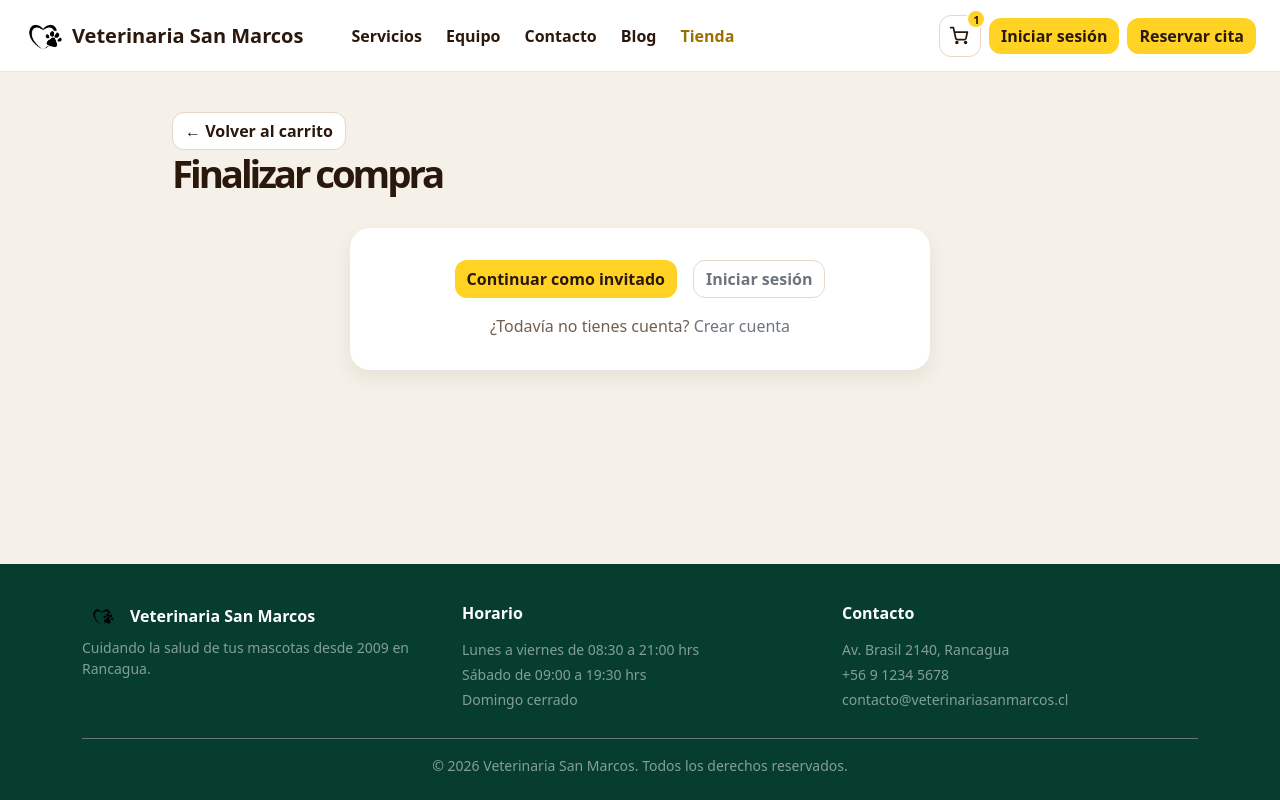
it: el ingreso opcional vuelve al pago y conserva el despacho
The image size is (1280, 800).
Click the button "Continuar como invitado".
click(566, 279)  # box [454,260,677,298]
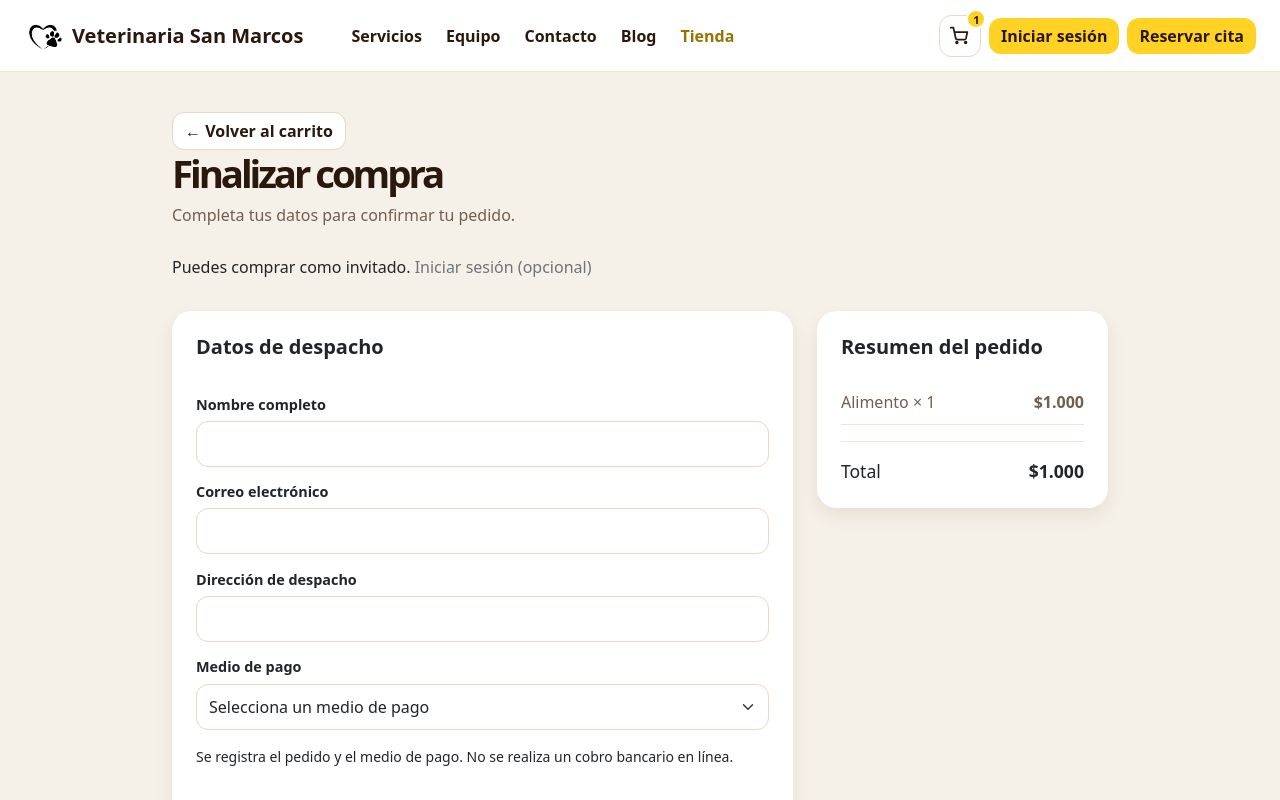
Type "Dirección conservada" into the field labelled "Dirección de despacho".
click(482, 619); type("Dirección conservada")  # box [196,596,769,642]
Select "Transferencia bancaria" in the dropdown labelled "Medio de pago" at coordinates (482, 707), box [196,684,769,730]
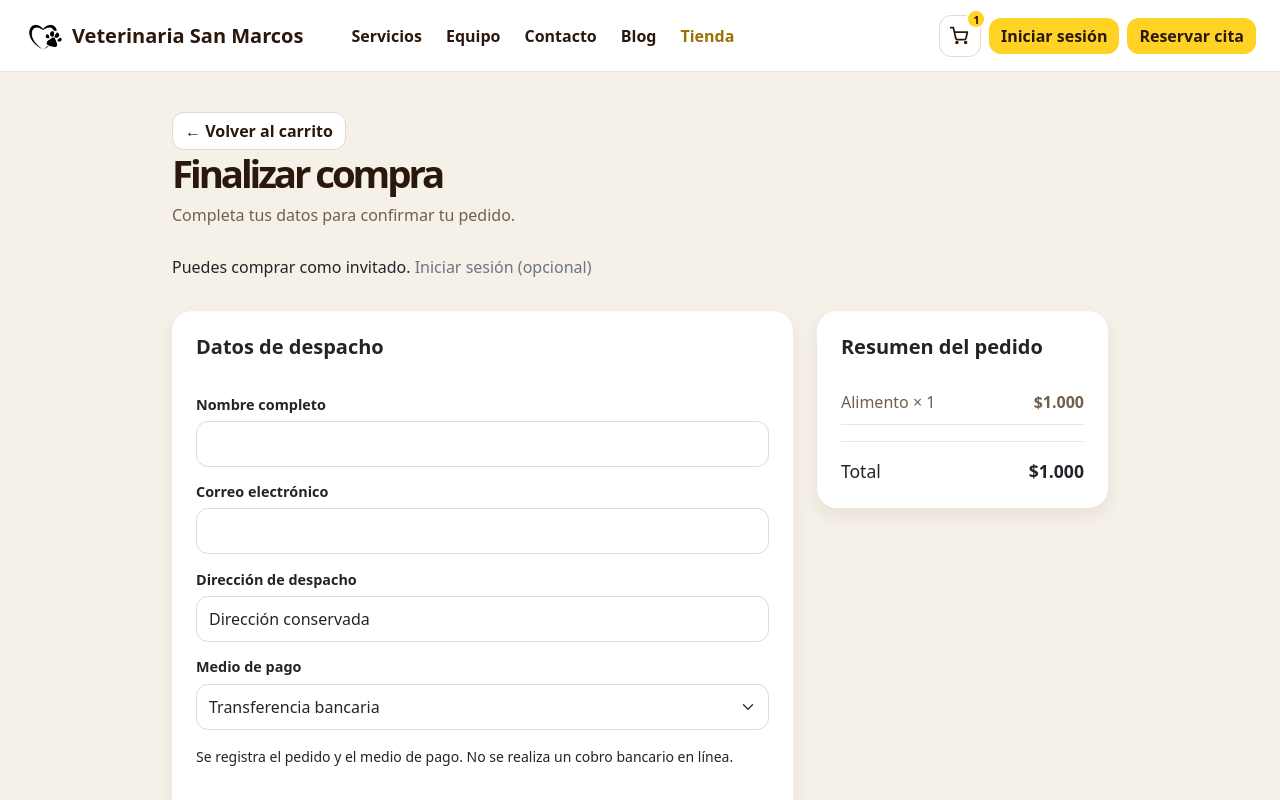
Click the link "Iniciar sesión (opcional)".
click(503, 267)  # box [415,256,591,278]
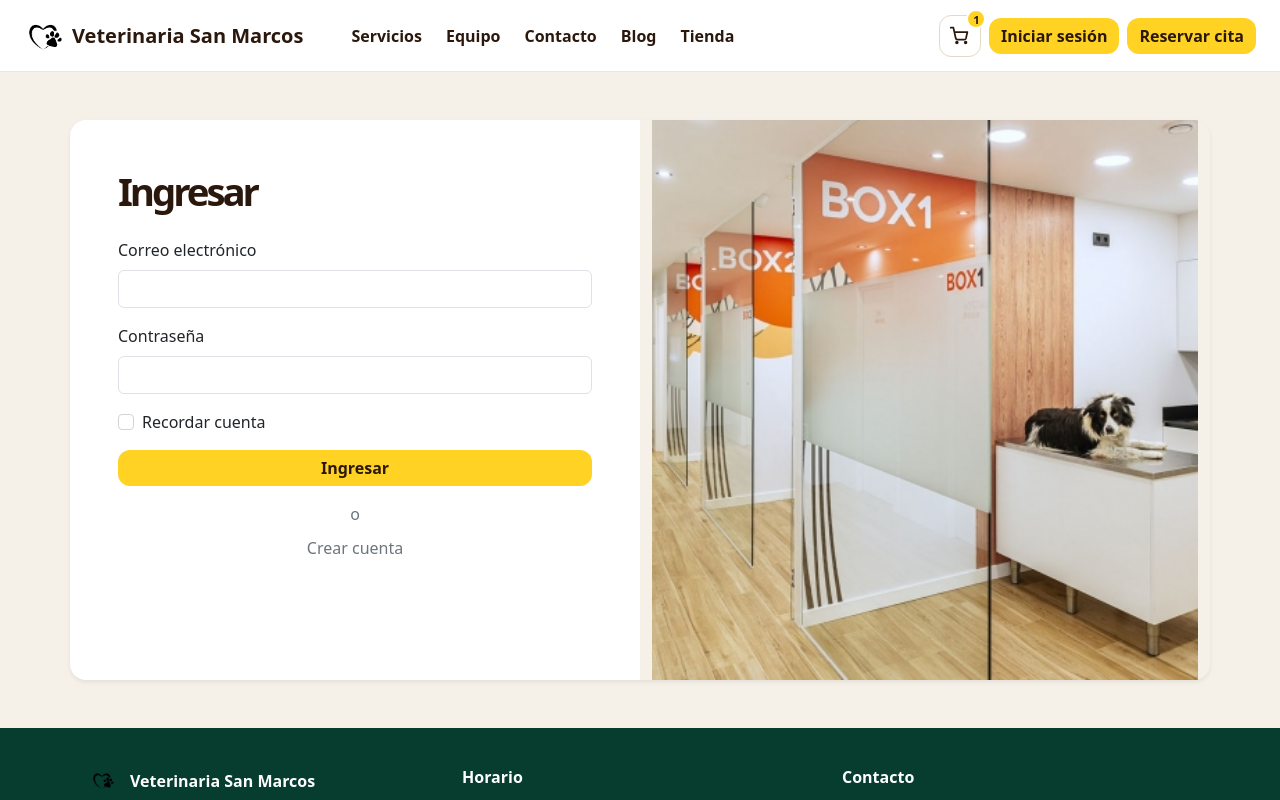
Type "sofia@gmail.com" into the field labelled "Correo electrónico".
click(355, 289); type("sofia@gmail.com")  # box [118,270,592,308]
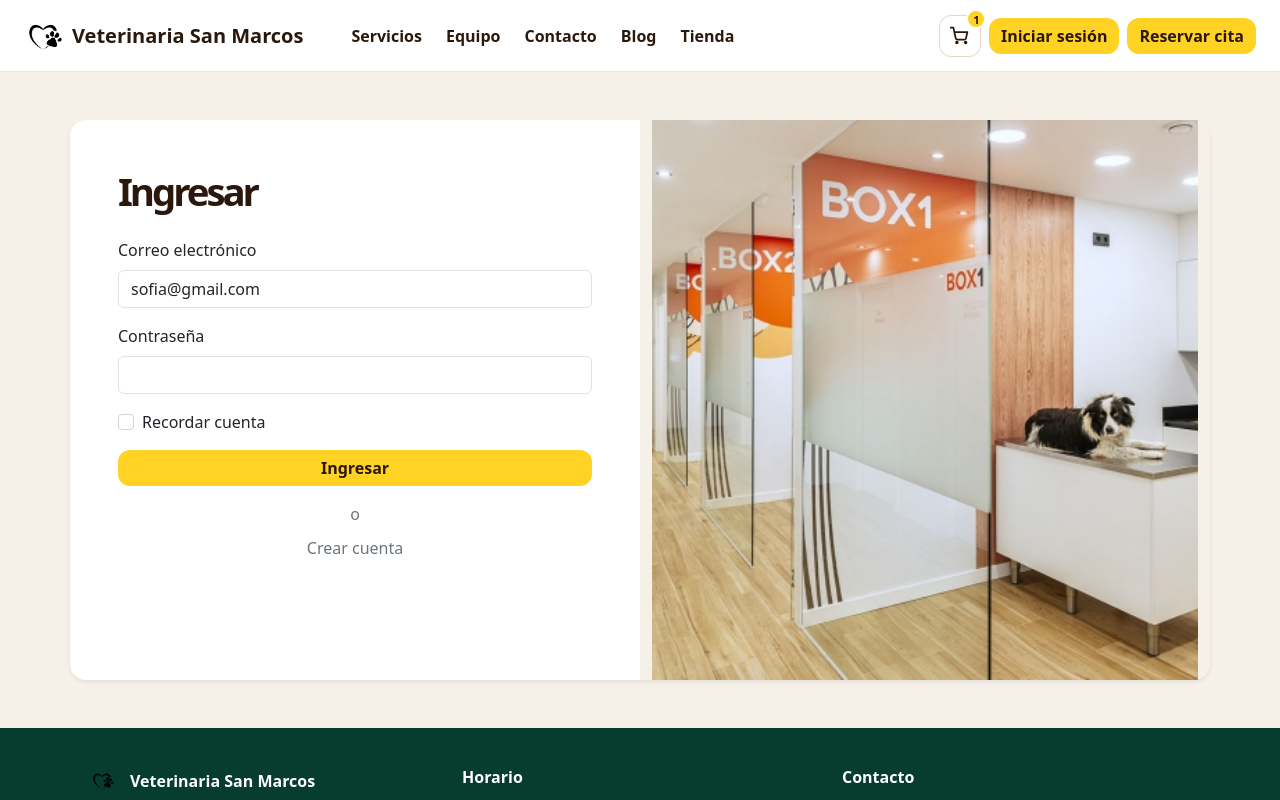
Type "1234" into the password field labelled "Contraseña".
click(355, 375); type("1234")  # box [118,356,592,394]
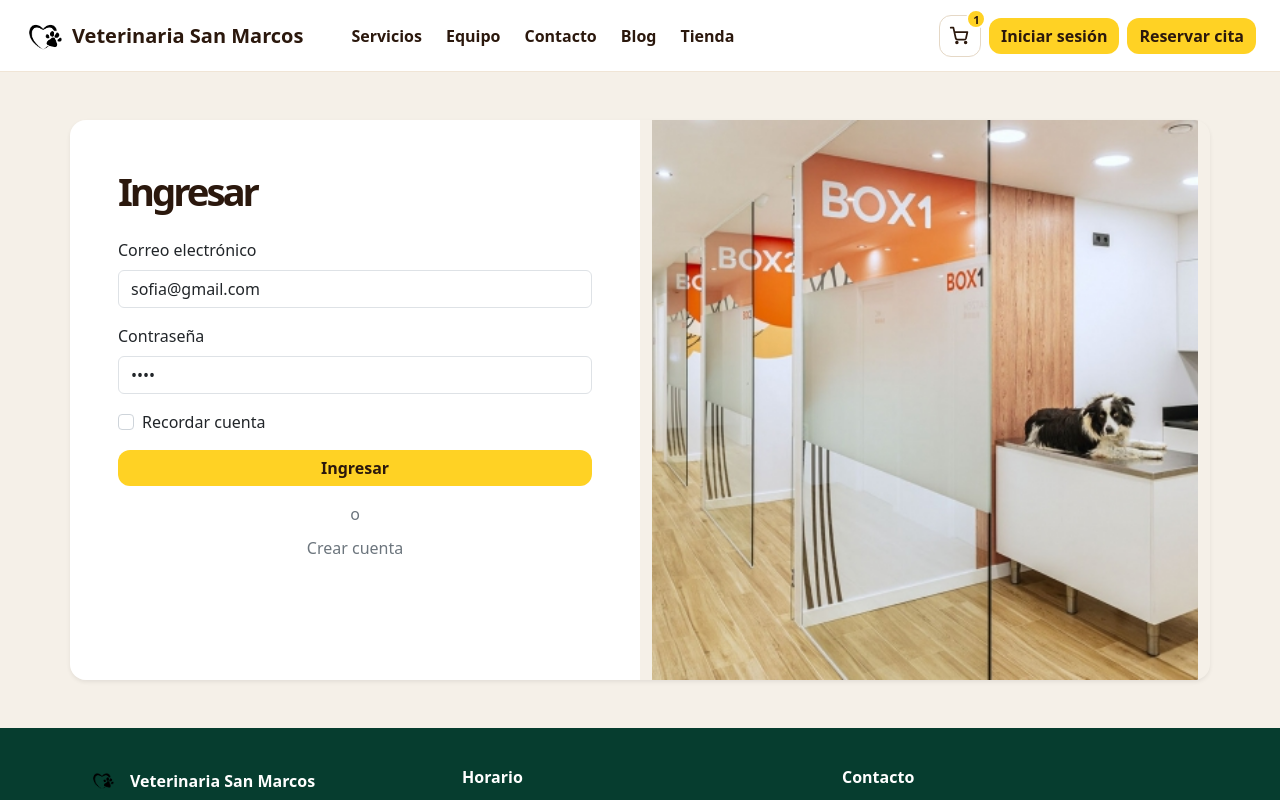
Click the button "Ingresar".
click(355, 468)  # box [118,450,592,486]
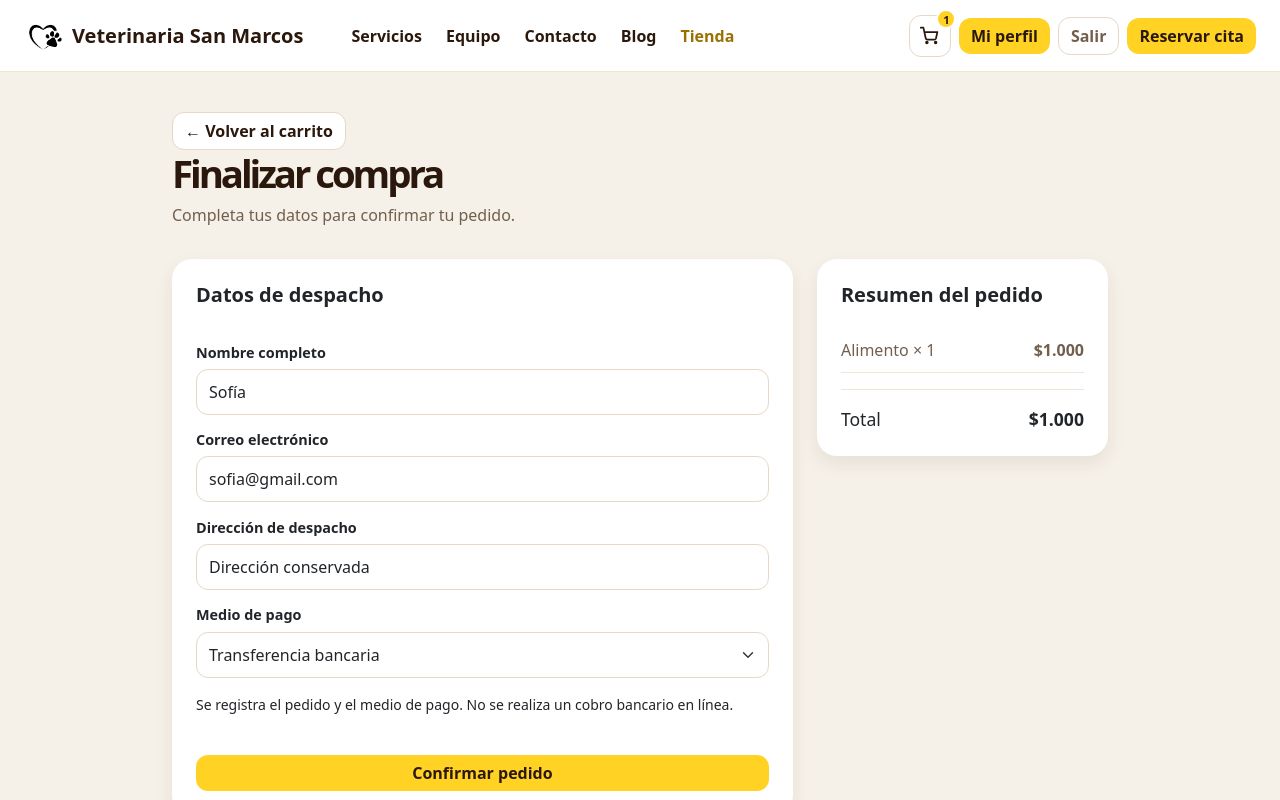
Result: the heading "Finalizar compra" is shown at [172,147,442,199]
Result: the field labelled "Dirección de despacho" holds "Dirección conservada" at [196,544,769,590]
Result: the dropdown labelled "Medio de pago" shows "Transferencia bancaria" at [196,632,769,678]
